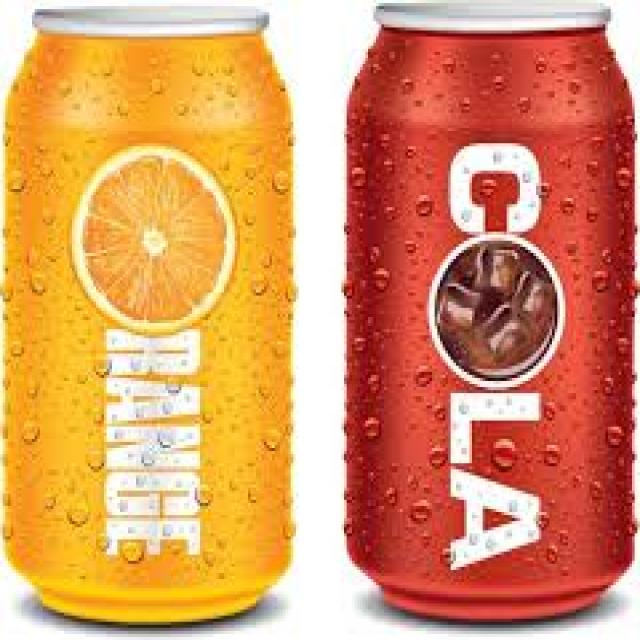Cans: (328, 3, 640, 619), (3, 3, 309, 622)
